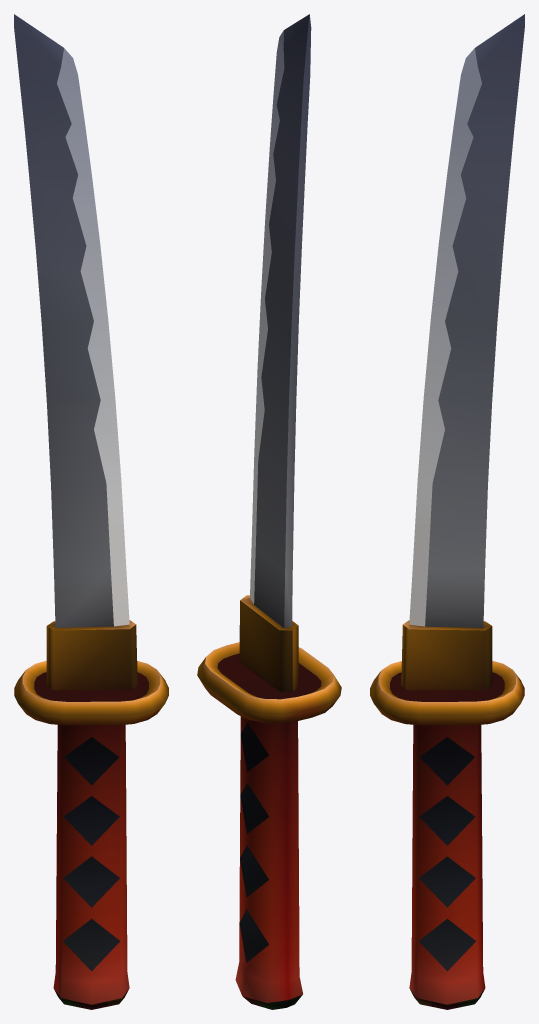
The model's file is ColdArms_Katana.gltf.
3 views of the same model, side by side, from view 1: azimuth 90°, elevation 25°; view 2: azimuth 210°, elevation 25°; view 3: azimuth 270°, elevation 25° (orthographic). The views are drawn at different scales.
Parts seen in each view (by area): view 1: ColdArms_Katana; view 2: ColdArms_Katana; view 3: ColdArms_Katana.
Part boxes in pixels (left/top/right/bottom): ColdArms_Katana: left=14, top=14, right=168, bottom=1009; ColdArms_Katana: left=197, top=14, right=341, bottom=1009; ColdArms_Katana: left=370, top=14, right=524, bottom=1009.
Bounding box in the file's own units: 0.135 × 1.28 × 0.1815.
Materials: 2 (2 with a texture image).
